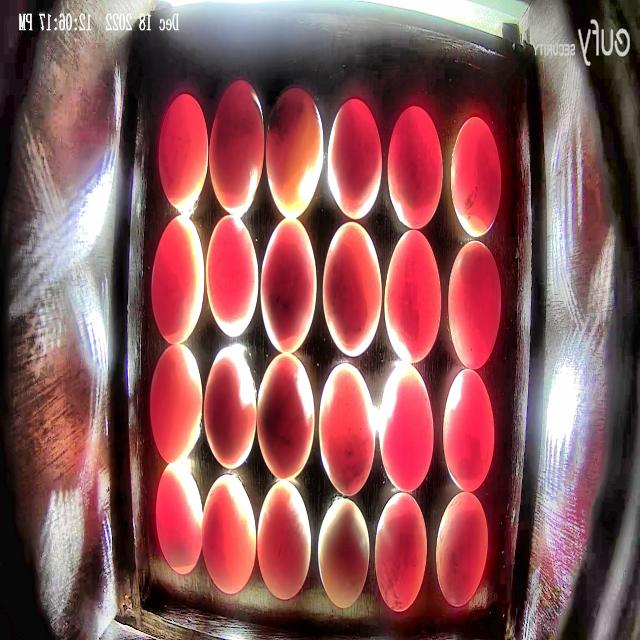FE: (322, 221, 383, 359), (260, 216, 318, 355), (384, 228, 442, 364), (265, 85, 324, 218), (208, 81, 265, 217), (319, 364, 377, 496), (257, 352, 315, 481), (386, 105, 444, 231), (379, 362, 434, 494), (151, 213, 205, 346), (448, 240, 502, 371), (203, 344, 257, 470), (327, 99, 383, 220), (206, 214, 259, 339), (442, 368, 495, 493), (374, 490, 428, 612), (202, 474, 256, 595), (258, 480, 312, 598), (150, 342, 202, 464), (451, 115, 502, 237), (158, 92, 209, 213), (436, 490, 488, 607), (318, 497, 370, 609), (156, 460, 202, 574)
